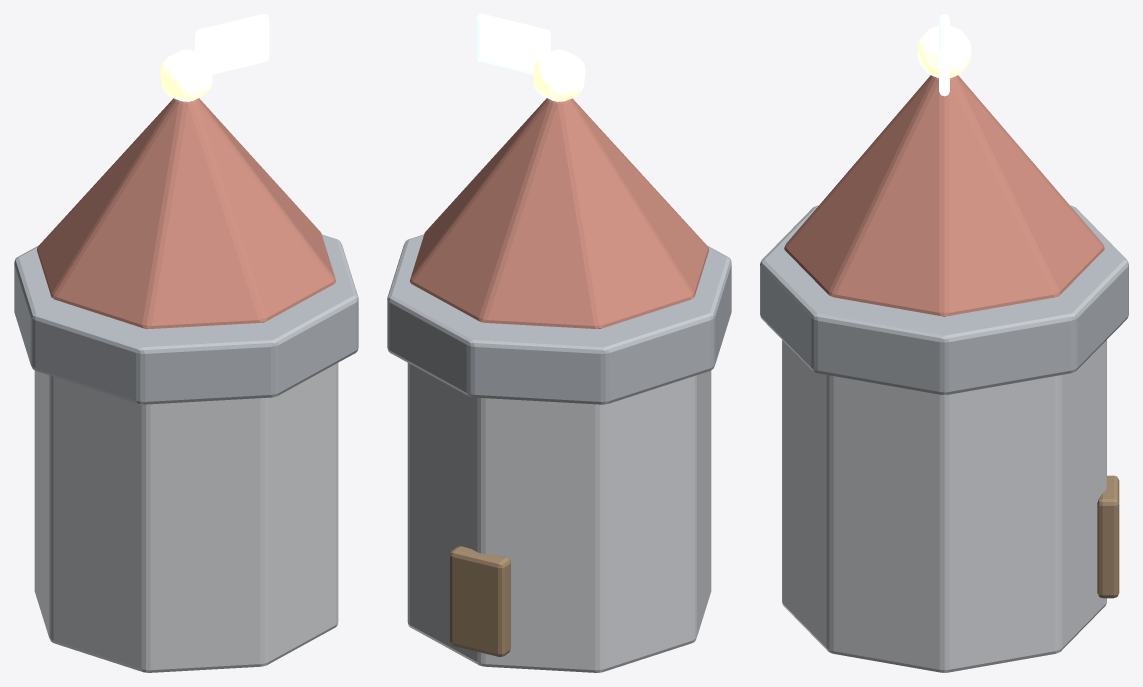
File: turret_castle.glb
The picture shows the model from 3 angles, left to right: view 1: azimuth 30°, elevation 25°; view 2: azimuth 150°, elevation 25°; view 3: azimuth 270°, elevation 25°; orthographic projection. The views are drawn at different scales.
Parts seen in each view (by area): view 1: turret_castle; view 2: turret_castle; view 3: turret_castle.
Part boxes in pixels (left/top/right/bottom): turret_castle: left=14, top=14, right=358, bottom=672; turret_castle: left=387, top=14, right=731, bottom=672; turret_castle: left=760, top=14, right=1128, bottom=672.
Size of the model in its own units: 0.6756 by 1.21 by 0.6756.
